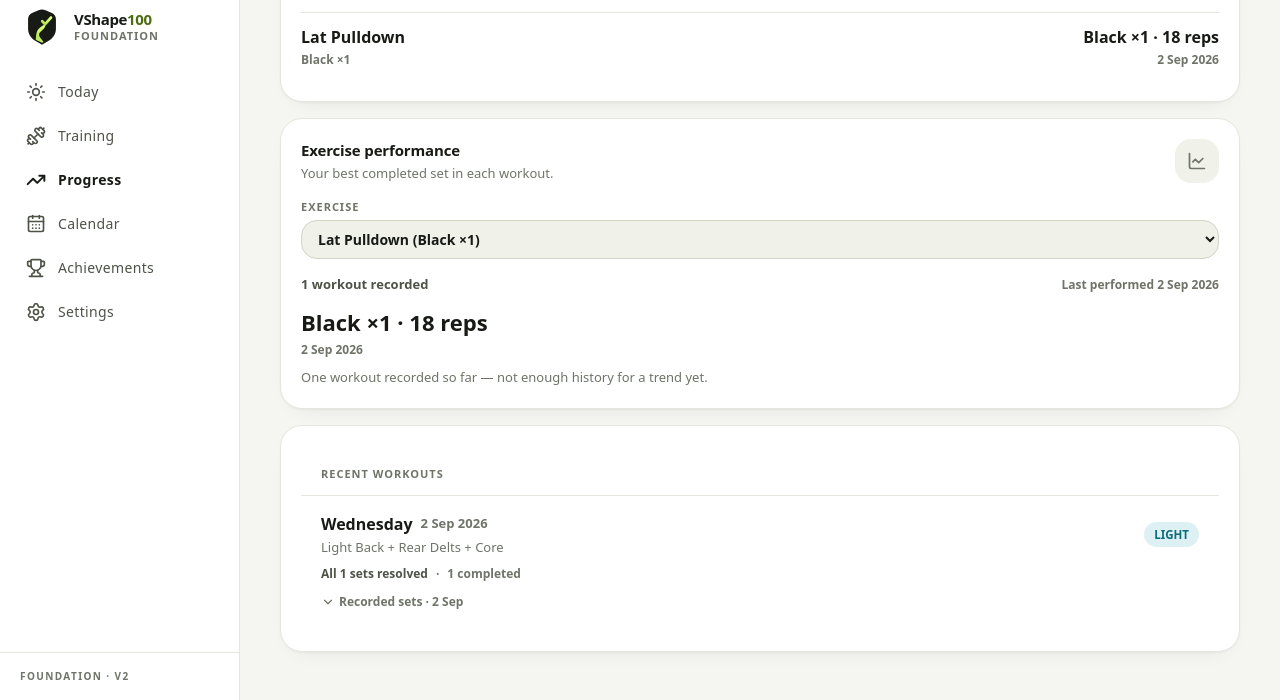
Test: 2. a failed refresh never rolls the correction back › keeps the correction, and refuses to present the stale best as current
(page scrolled)
Expected: the text "Black ×1 · 18 reps" in the row of "Lat Pulldown" is shown, [1083, 26, 1219, 48]
Click the button "Recorded sets · 2 Sep".
click(392, 602)  # box [321, 594, 463, 612]
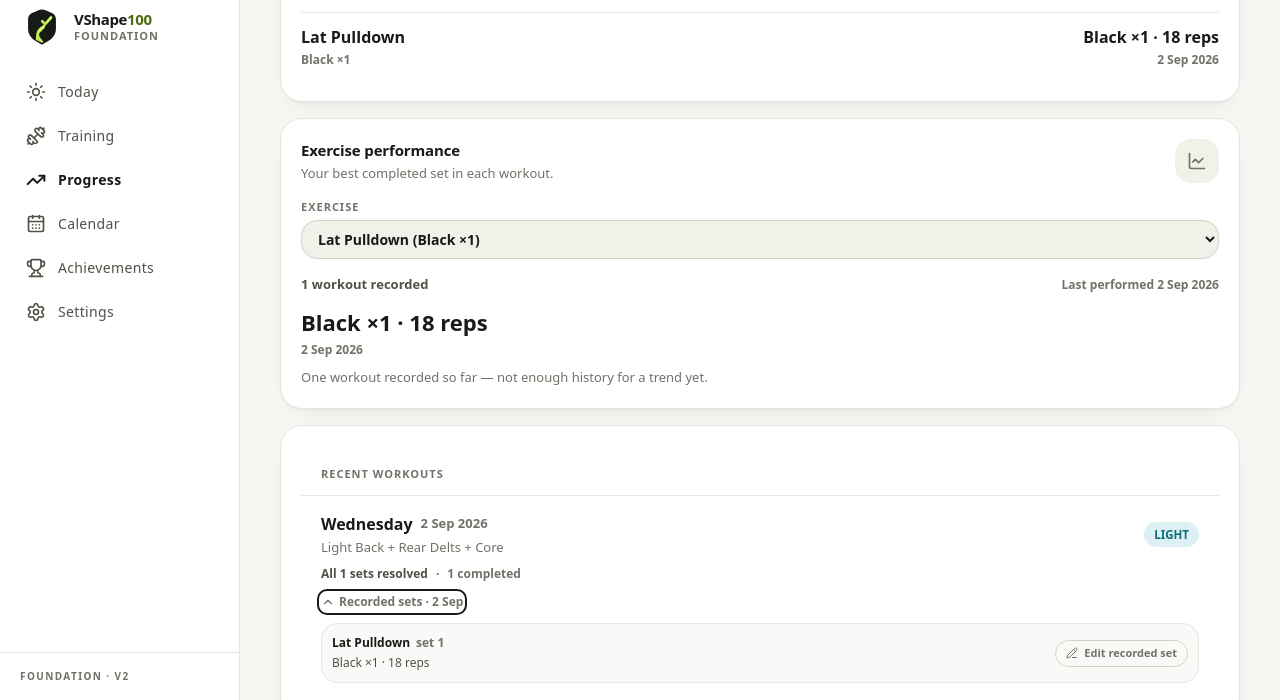
Click the button "Edit recorded set".
click(1122, 653)  # box [1055, 640, 1188, 667]
(page scrolled)
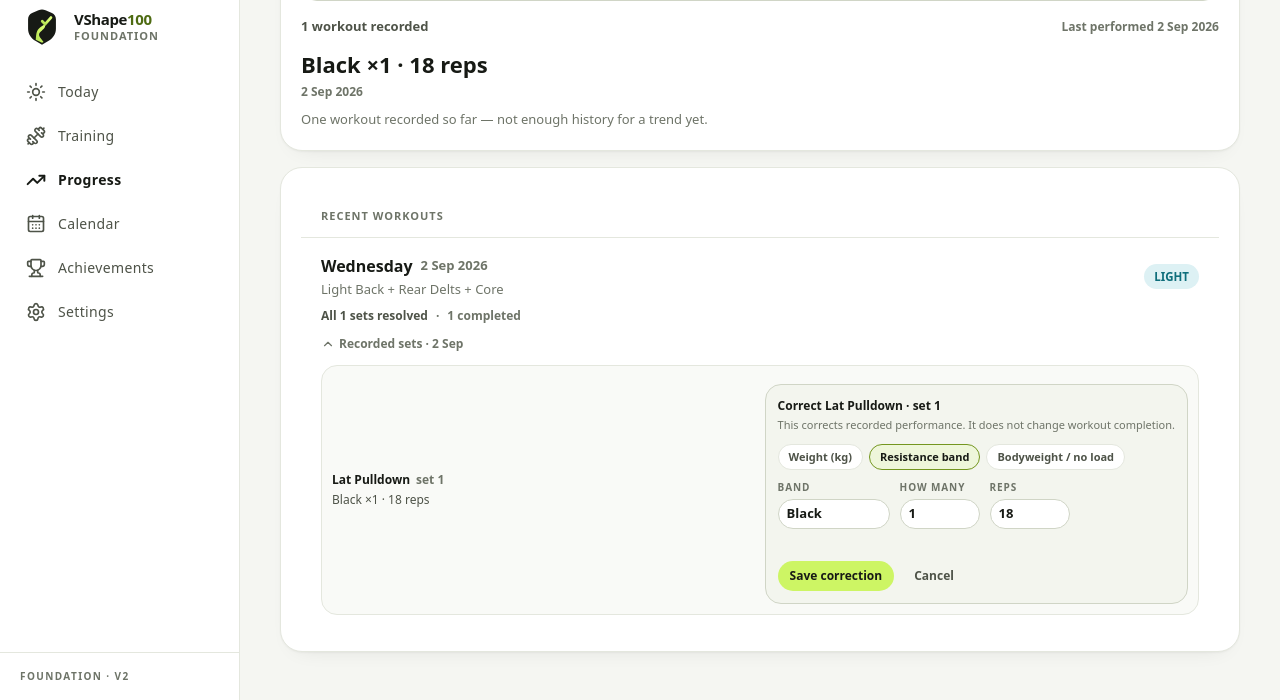
Replace the text in the field labelled "Reps" with "16" at {"x": 1030, "y": 514}, box [990, 500, 1070, 529]
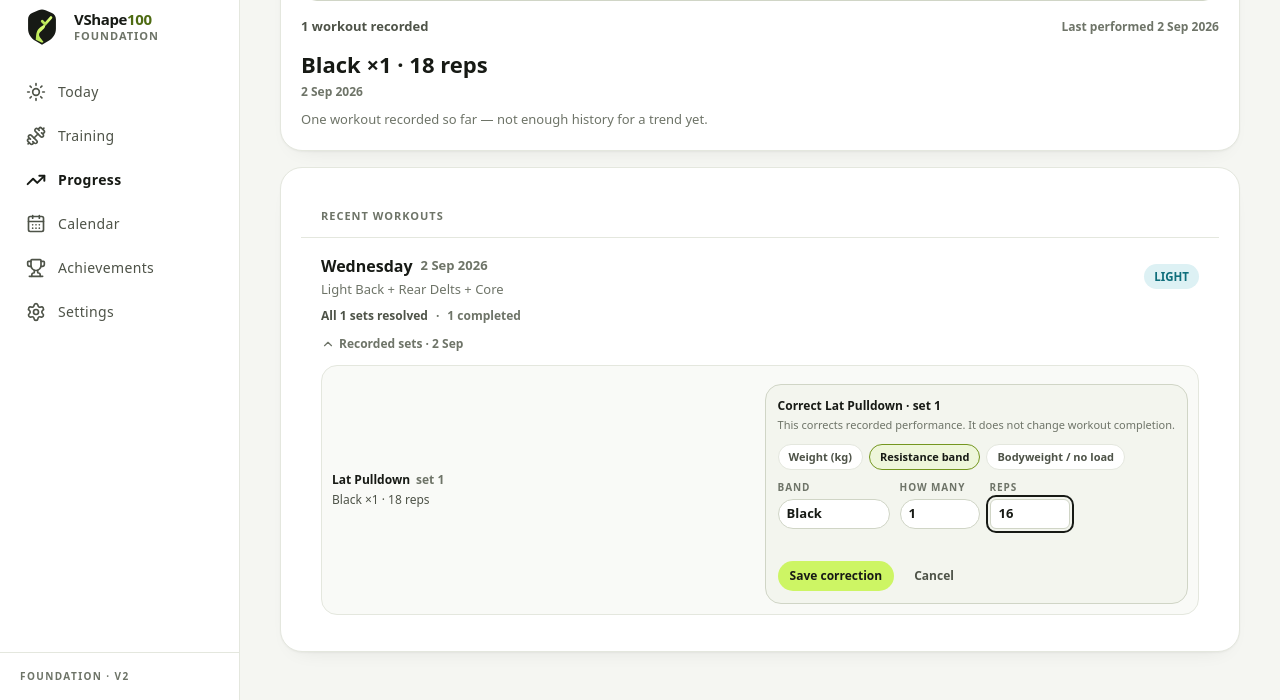
Click the button "Save correction".
click(836, 576)  # box [778, 561, 894, 591]
(page scrolled)
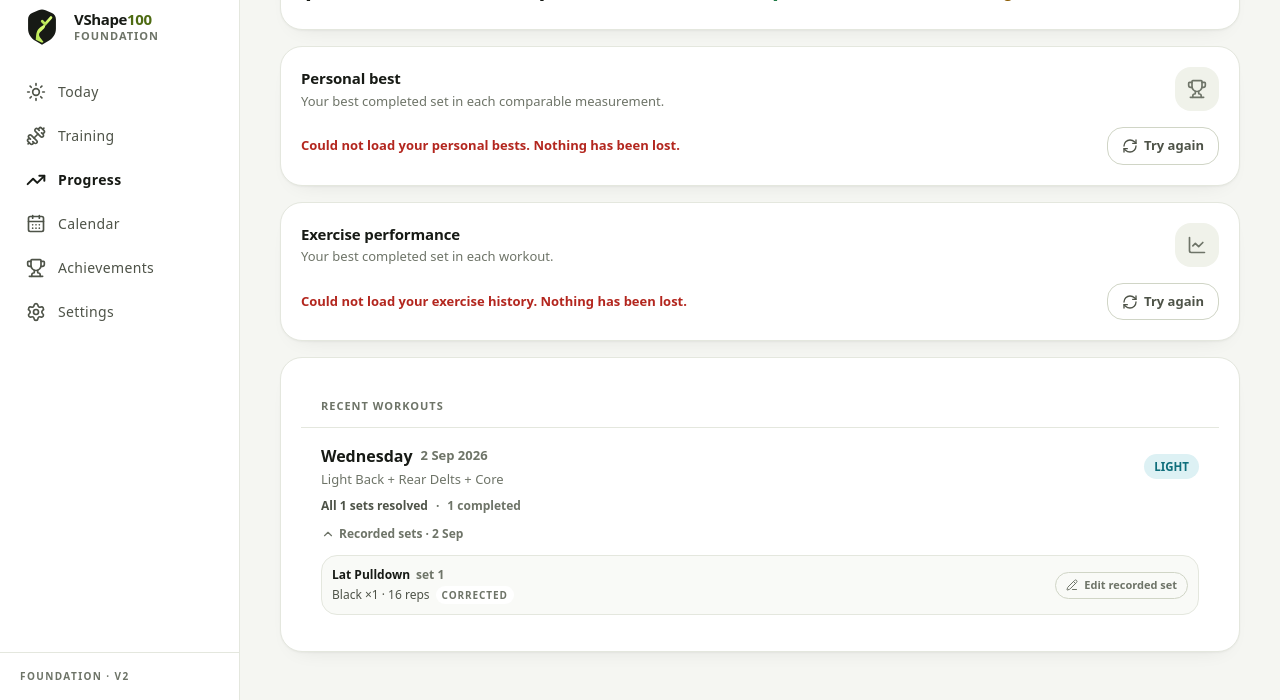
Expected: the text "Black ×1 · 16 reps" is shown, [332, 586, 430, 603]
Expected: the text "18 reps" is gone
